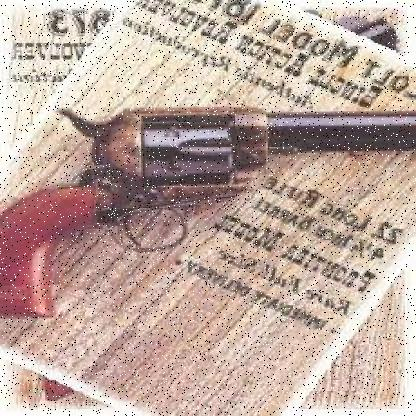pistol: (2, 104, 414, 318)
